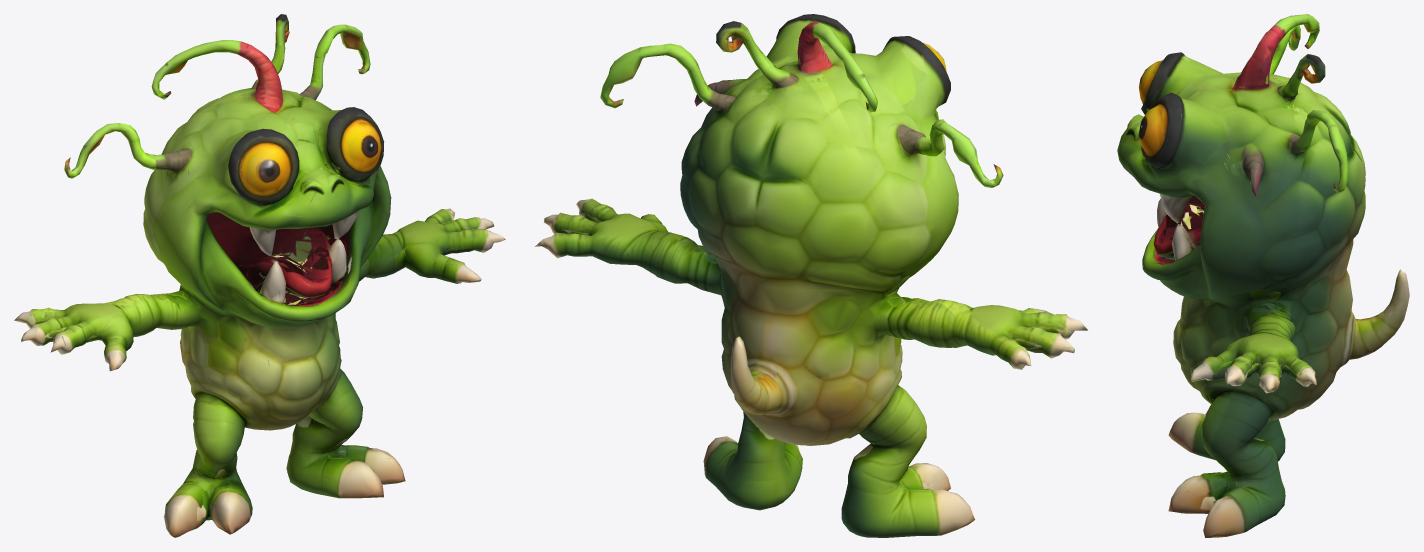
File: Meshy_AI_Happy_Critter_0111114310_texture.fbx
The picture shows the model from 3 angles, left to right: view 1: azimuth 30°, elevation 25°; view 2: azimuth 150°, elevation 25°; view 3: azimuth 270°, elevation 25°; orthographic projection. The views are drawn at different scales.
Parts seen in each view (by area): view 1: Mesh1.0; view 2: Mesh1.0; view 3: Mesh1.0.
Part boxes in pixels (x1,y1,x2,y2): Mesh1.0: (14,14,505,537); Mesh1.0: (535,14,1087,537); Mesh1.0: (1117,14,1409,537).
Bounding box in the file's own units: 191 × 175 × 101.
Materials: 1 (1 with a texture image).
